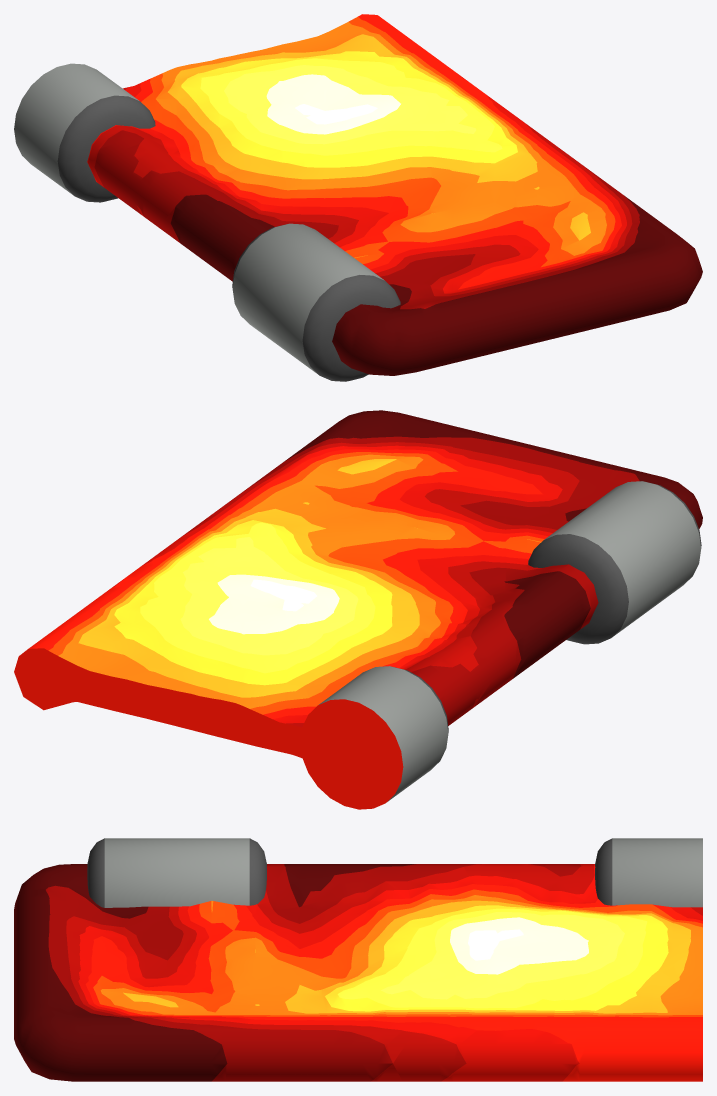
Rendered from fire_flap_269.glb.
3 renders of one model, top to bottom at view 1: azimuth 30°, elevation 25°; view 2: azimuth 150°, elevation 25°; view 3: azimuth 270°, elevation 25°, orthographic. The views are drawn at different scales.
Visible parts, largest first — view 1: flap.001, knuckle2.001, knuckle1.001; view 2: flap.001, knuckle2.001, knuckle1.001; view 3: flap.001, knuckle2.001, knuckle1.001.
Boxes of the visible parts, x1,y1,x2,y2 form: flap.001: (87,14,702,375); knuckle2.001: (232,223,400,381); knuckle1.001: (14,63,155,202); flap.001: (14,410,702,785); knuckle2.001: (528,481,701,644); knuckle1.001: (300,666,448,809); flap.001: (14,864,702,1081); knuckle2.001: (87,838,266,907); knuckle1.001: (595,838,702,907).
Size of the model in its own units: 12.45 by 3.27 by 19.
